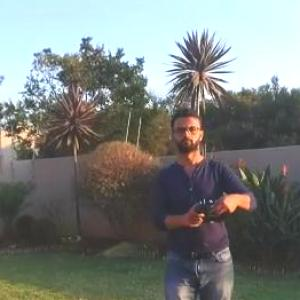follow: (146, 102, 264, 299)
